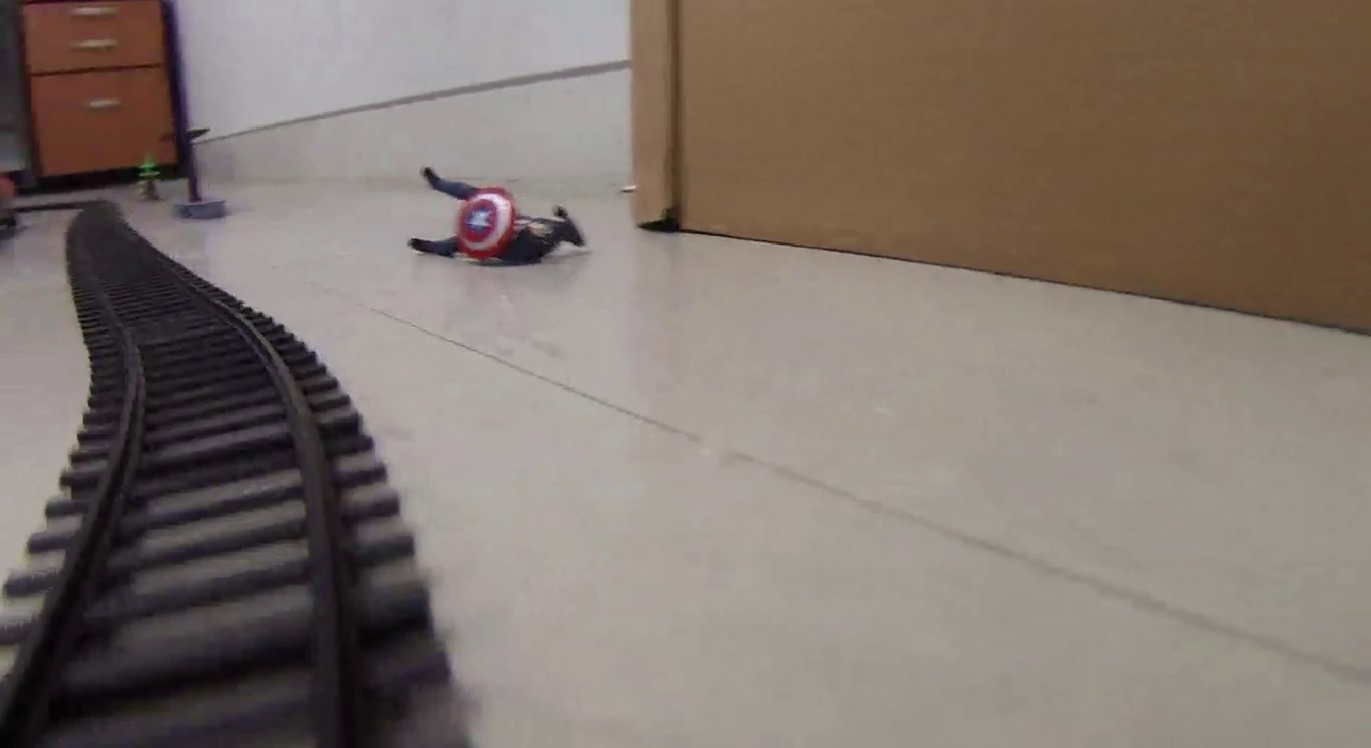people: (405, 167, 586, 268)
